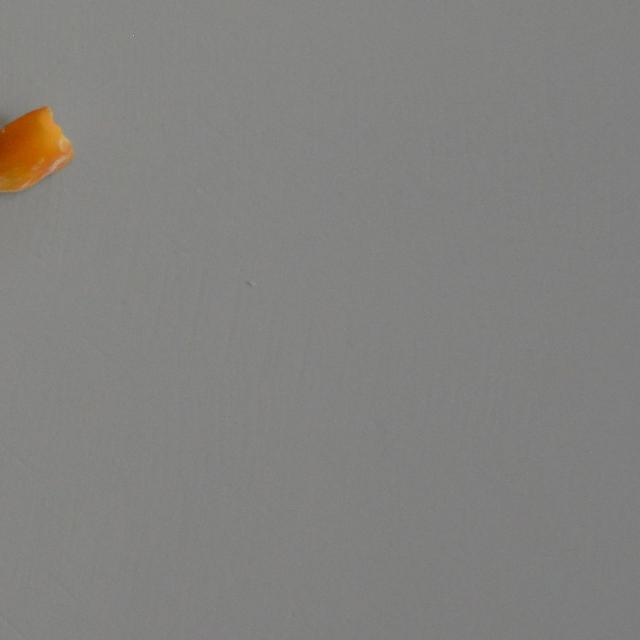dañado: (0, 101, 79, 199)
